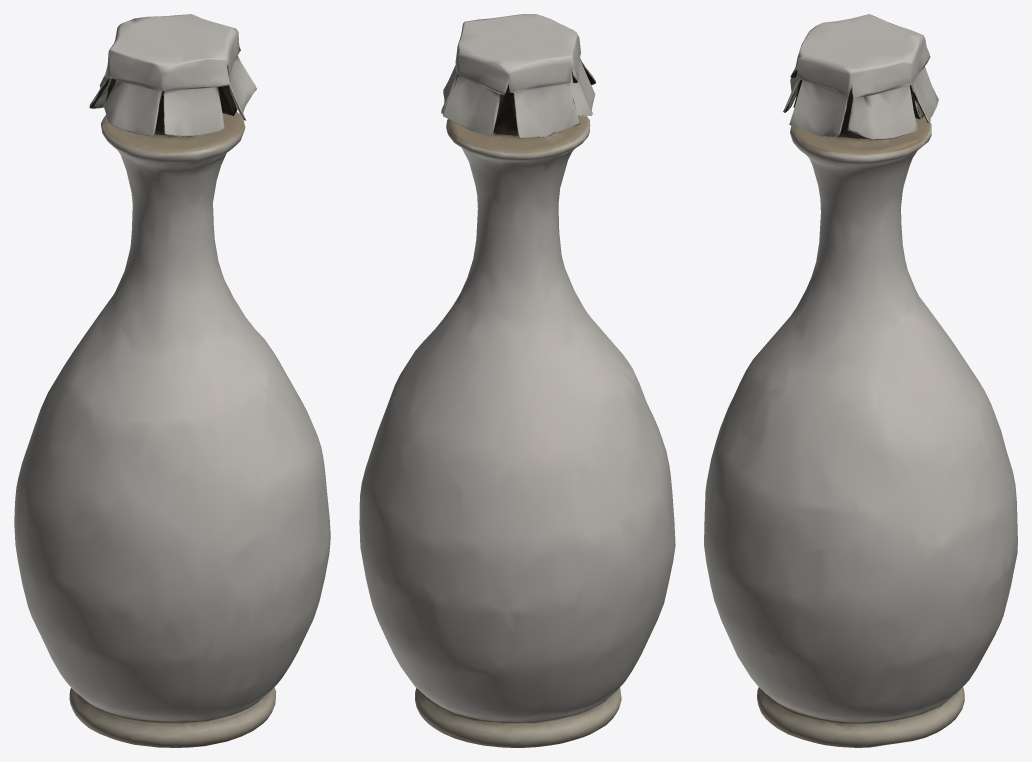
The model's file is miki.glb.
3 views of the same model, side by side, from view 1: azimuth 30°, elevation 25°; view 2: azimuth 150°, elevation 25°; view 3: azimuth 270°, elevation 25° (orthographic).
Parts seen in each view (by area): view 1: tripo_node_50ecb33d-a990-499e-bd5f-01f4ca467151; view 2: tripo_node_50ecb33d-a990-499e-bd5f-01f4ca467151; view 3: tripo_node_50ecb33d-a990-499e-bd5f-01f4ca467151.
Part boxes in pixels (box(x1,y1,x2,y2)): tripo_node_50ecb33d-a990-499e-bd5f-01f4ca467151: box(14, 14, 330, 747); tripo_node_50ecb33d-a990-499e-bd5f-01f4ca467151: box(359, 14, 675, 747); tripo_node_50ecb33d-a990-499e-bd5f-01f4ca467151: box(704, 14, 1017, 747).
Bounding box in the file's own units: 0.4272 × 1 × 0.427.
Materials: 1 (1 with a texture image).
